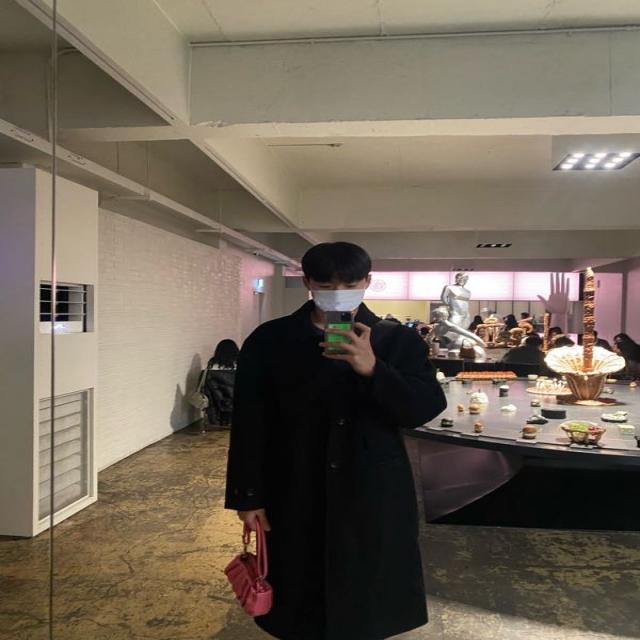coat: (229, 302, 440, 640)
